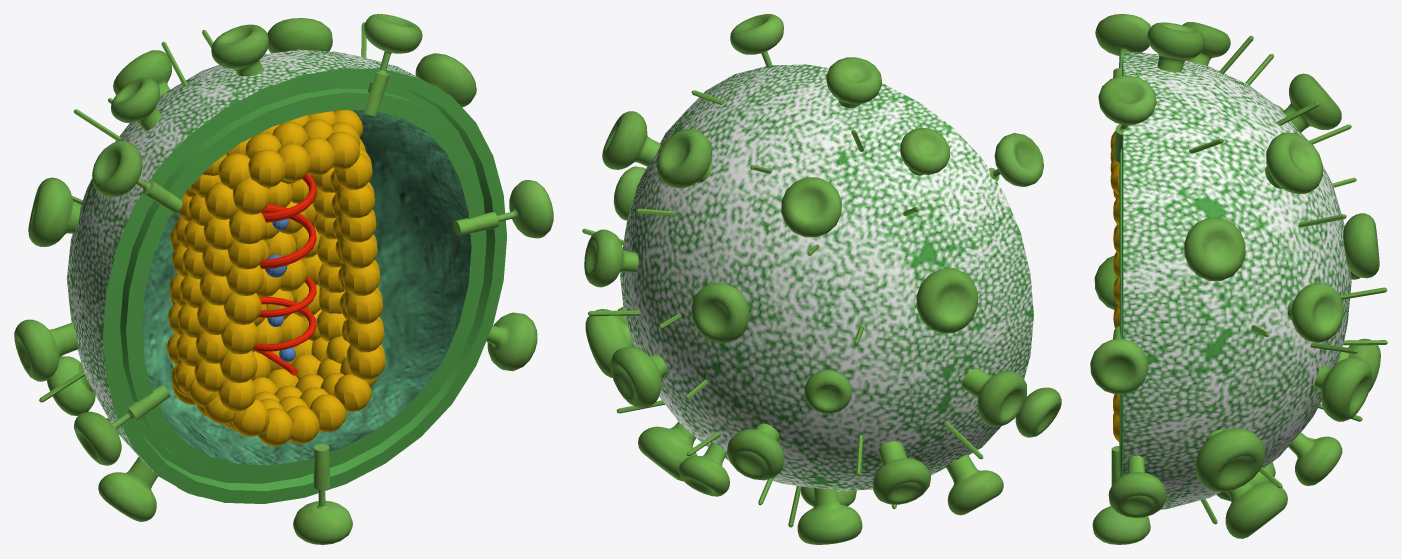
Rendered from finally_PM.fbx.
The picture shows the model from 3 angles, left to right: view 1: azimuth 30°, elevation 25°; view 2: azimuth 150°, elevation 25°; view 3: azimuth 270°, elevation 25°; orthographic projection. The views are drawn at different scales.
Visible parts, largest first — view 1: poumianHIV:polySurface55; view 2: poumianHIV:polySurface55; view 3: poumianHIV:polySurface55.
Boxes of the visible parts, bbox=[...] form: poumianHIV:polySurface55: bbox=[14, 14, 553, 544]; poumianHIV:polySurface55: bbox=[582, 14, 1061, 544]; poumianHIV:polySurface55: bbox=[1090, 14, 1387, 544].
Bounding box in the file's own units: 6.31 × 6.39 × 3.52.
